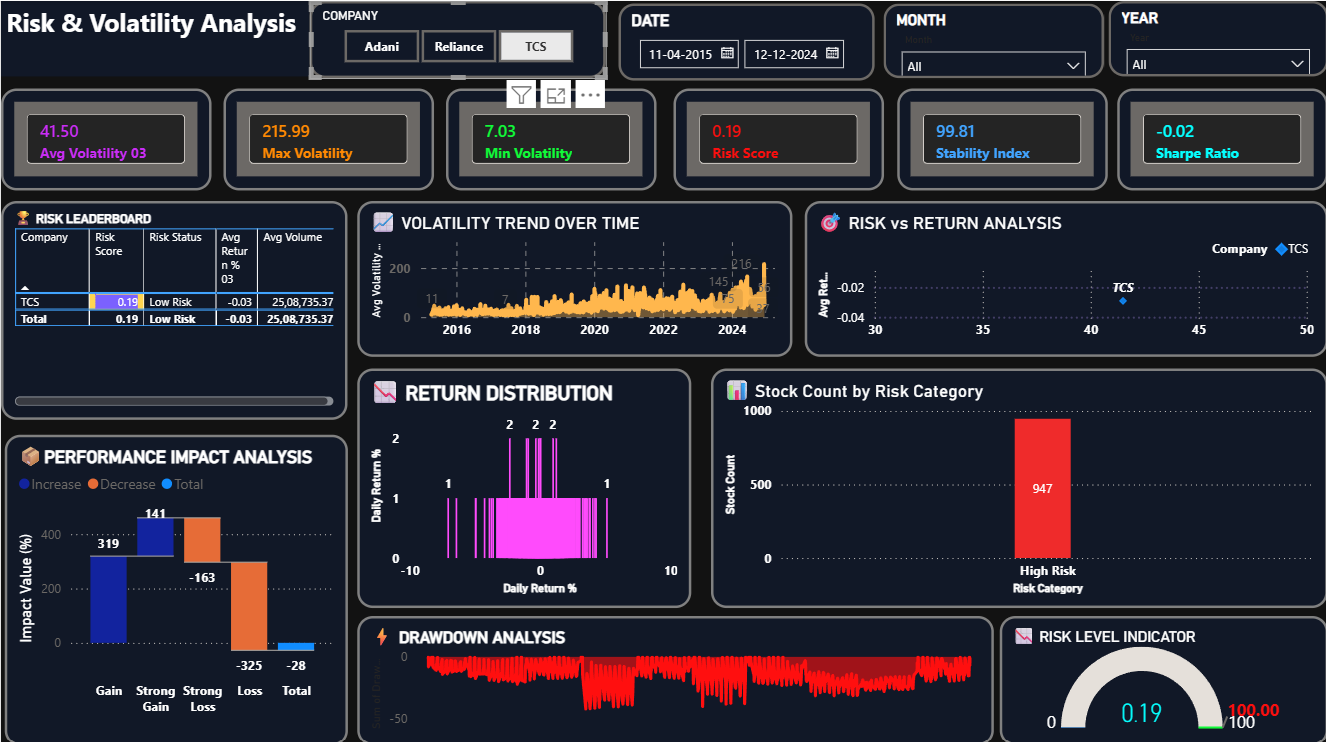

Layout of this report page (visuals, bound fields, positions):
{"tool":"powerbi","page":{"name":"⚠  Risk & Volatility Analysis","canvas":[1280,720],"ordinal":2},"visuals":[{"type":"textbox","box":[0,0,298,72.6],"z":0},{"type":"slicer","title":"COMPANY","fields":{"Values":["feature_engineered_stock_data.Company"]},"box":[298.1,0,285.9,74.5],"z":1000},{"type":"slicer","title":"DATE","fields":{"Values":["feature_engineered_stock_data.Date"]},"box":[596.3,2.4,246.8,74.5],"z":2000},{"type":"slicer","title":"MONTH","fields":{"Values":["feature_engineered_stock_data.Month"]},"box":[851.6,2.4,212.6,72.1],"z":3000},{"type":"slicer","title":"YEAR","fields":{"Values":["feature_engineered_stock_data.Year"]},"box":[1068.7,0,211.8,72.6],"z":4000},{"type":"cardVisual","fields":{"Data":["Measure_Table_03.Avg Volatility 03"]},"box":[0,85,203.2,98.5],"z":5000},{"type":"cardVisual","fields":{"Data":["Measure_Table_03.Max Volatility"]},"box":[214.2,85,203.2,98.5],"z":6000},{"type":"cardVisual","fields":{"Data":["Measure_Table_03.Min Volatility"]},"box":[429.7,85,203.2,98.5],"z":7000},{"type":"cardVisual","fields":{"Data":["Measure_Table_03.Risk Score"]},"box":[648.9,85,203.2,98.5],"z":8000},{"type":"cardVisual","fields":{"Data":["Measure_Table_03.Stability Index"]},"box":[865.6,85,203.2,98.5],"z":9000},{"type":"cardVisual","fields":{"Data":["Measure_Table_03.Sharpe Ratio"]},"box":[1077.3,85,203.2,98.5],"z":10000},{"type":"gauge","title":" 📉 RISK LEVEL INDICATOR","fields":{"Y":["Measure_Table_03.Risk Score"],"MaxValue":["Measure_Table_03.Risk Max"],"MinValue":["Measure_Table_03.Risk Min"]},"box":[964,593.8,316.5,125.9],"z":11000},{"type":"areaChart","title":"📈 VOLATILITY TREND OVER TIME","fields":{"Y":["Measure_Table_03.Avg Volatility 03"],"Category":["feature_engineered_stock_data.Date.Variation.Date Hierarchy.Year","feature_engineered_stock_data.Date.Variation.Date Hierarchy.Quarter","feature_engineered_stock_data.Date.Variation.Date Hierarchy.Month","feature_engineered_stock_data.Date.Variation.Date Hierarchy.Day"]},"box":[343.3,193.1,420.3,150.3],"z":12000},{"type":"tableEx","title":"🏆 RISK LEADERBOARD","fields":{"Values":["feature_engineered_stock_data.Company","Measure_Table_03.Risk Score","Measure_Table_03.Risk Status","Measure_Table_03.Avg Return % 03","Ranking Measure.Avg Volume"]},"box":[0,193.1,334.8,211.4],"z":13000},{"type":"scatterChart","title":"🎯 RISK vs RETURN ANALYSIS","fields":{"X":["Measure_Table_03.Avg Volatility 03"],"Y":["Measure_Table_03.Avg Return % 03"],"Category":["feature_engineered_stock_data.Company"],"Size":["Ranking Measure.Avg Volume"],"Series":["feature_engineered_stock_data.Company"]},"box":[775.9,193.1,504.6,150.3],"z":14000},{"type":"clusteredColumnChart","title":"📉 RETURN DISTRIBUTION","fields":{"Category":["feature_engineered_stock_data.Daily_Return_Percentage"],"Y":["Measure_Table_02.Return Frequency"]},"box":[343.3,354.3,322.6,230.9],"z":15000},{"type":"ribbonChart","title":"📊 Stock Count by Risk Category","fields":{"Category":["feature_engineered_stock_data.Risk Category"],"Y":["Measure_Table_03.Stock Count"]},"box":[685.5,354.3,595,230.9],"z":16000},{"type":"waterfallChart","title":"📦PERFORMANCE IMPACT ANALYSIS","fields":{"Category":["feature_engineered_stock_data.Return Category"],"Y":["Measure_Table_03.Impact Value"]},"box":[3.7,419.1,331.1,300.6],"z":17000},{"type":"areaChart","title":"⚡ DRAWDOWN ANALYSIS","fields":{"Y":["Sum(feature_engineered_stock_data.Drawdown %)"],"Category":["feature_engineered_stock_data.Date.Variation.Date Hierarchy.Year","feature_engineered_stock_data.Date.Variation.Date Hierarchy.Quarter","feature_engineered_stock_data.Date.Variation.Date Hierarchy.Month","feature_engineered_stock_data.Date.Variation.Date Hierarchy.Day"]},"box":[343.3,593.8,614.6,125.9],"z":18000}]}

Visuals, with their boxes in screenshot pixels (x1, y1, x2, y2), scaled from the page's 1280x720 canvas onto the 1326x742 screenshot:
textbox: [x1=0, y1=0, x2=309, y2=75]
"COMPANY" slicer: [x1=309, y1=0, x2=605, y2=77]
"DATE" slicer: [x1=618, y1=2, x2=873, y2=79]
"MONTH" slicer: [x1=882, y1=2, x2=1102, y2=77]
"YEAR" slicer: [x1=1107, y1=0, x2=1325, y2=75]
cardVisual - Measure_Table_03.Avg Volatility 03: [x1=0, y1=88, x2=211, y2=189]
cardVisual - Measure_Table_03.Max Volatility: [x1=222, y1=88, x2=432, y2=189]
cardVisual - Measure_Table_03.Min Volatility: [x1=445, y1=88, x2=656, y2=189]
cardVisual - Measure_Table_03.Risk Score: [x1=672, y1=88, x2=883, y2=189]
cardVisual - Measure_Table_03.Stability Index: [x1=897, y1=88, x2=1107, y2=189]
cardVisual - Measure_Table_03.Sharpe Ratio: [x1=1116, y1=88, x2=1325, y2=189]
" 📉 RISK LEVEL INDICATOR" gauge: [x1=999, y1=612, x2=1325, y2=741]
"📈 VOLATILITY TREND OVER TIME" areaChart: [x1=356, y1=199, x2=791, y2=354]
"🏆 RISK LEADERBOARD" tableEx: [x1=0, y1=199, x2=347, y2=417]
"🎯 RISK vs RETURN ANALYSIS" scatterChart: [x1=804, y1=199, x2=1325, y2=354]
"📉 RETURN DISTRIBUTION" clusteredColumnChart: [x1=356, y1=365, x2=690, y2=603]
"📊 Stock Count by Risk Category" ribbonChart: [x1=710, y1=365, x2=1325, y2=603]
"📦PERFORMANCE IMPACT ANALYSIS" waterfallChart: [x1=4, y1=432, x2=347, y2=741]
"⚡ DRAWDOWN ANALYSIS" areaChart: [x1=356, y1=612, x2=992, y2=741]
